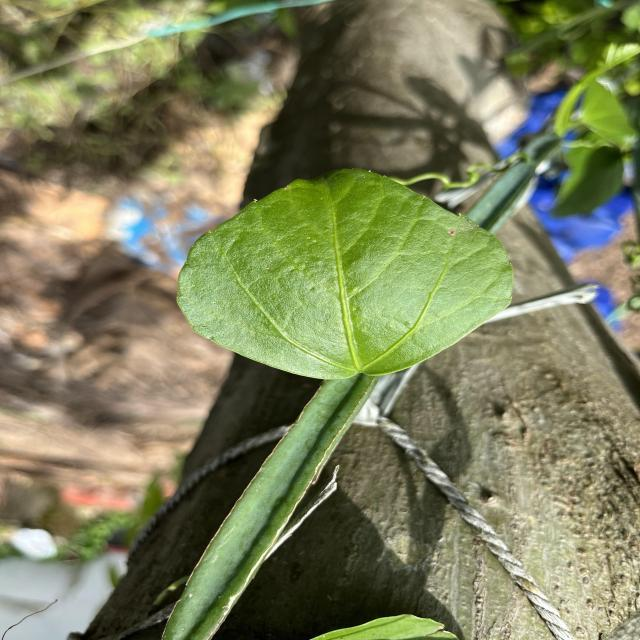Cissus quadrangularis: (174, 167, 516, 384)
